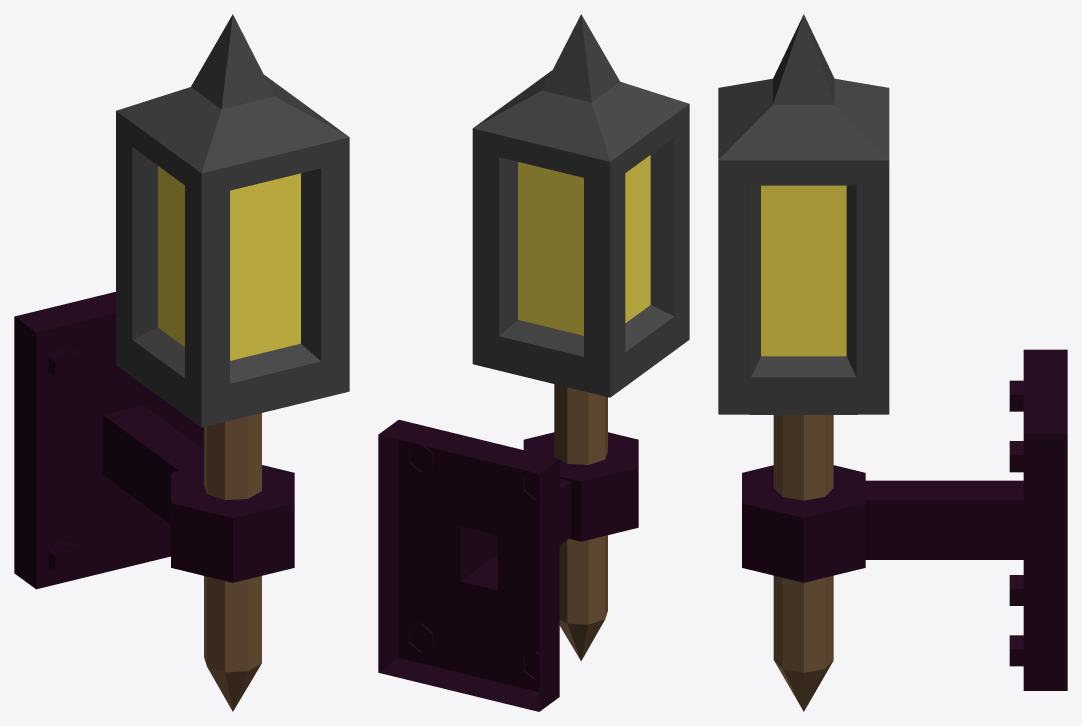
The model's file is Lamp.fbx.
The picture shows the model from 3 angles, left to right: view 1: azimuth 30°, elevation 25°; view 2: azimuth 150°, elevation 25°; view 3: azimuth 270°, elevation 25°; orthographic projection. The views are drawn at different scales.
Parts seen in each view (by area): view 1: Lamp; view 2: Lamp; view 3: Lamp.
Part boxes in pixels (x1,y1,x2,y2): Lamp: (14, 14, 349, 711); Lamp: (378, 14, 689, 711); Lamp: (718, 14, 1067, 711).
Bounding box in the file's own units: 28.04 × 108 × 48.92.
